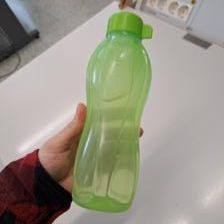bottle: (68, 11, 156, 212)
